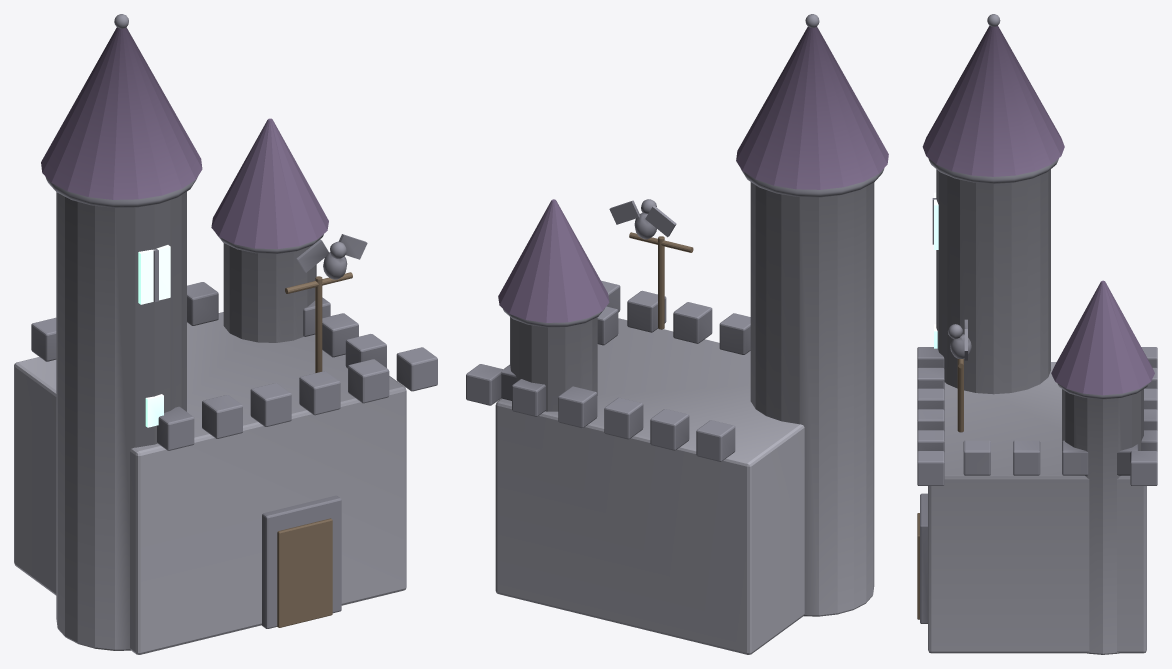
Rendered from witchCastle.glb.
3 renders of one model, left to right at view 1: azimuth 30°, elevation 25°; view 2: azimuth 150°, elevation 25°; view 3: azimuth 270°, elevation 25°, orthographic. The views are drawn at different scales.
Parts seen in each view (by area): view 1: WitchCastle; view 2: WitchCastle; view 3: WitchCastle.
Boxes of the visible parts, bbox=[...] form: WitchCastle: bbox=[14, 14, 437, 654]; WitchCastle: bbox=[466, 14, 888, 654]; WitchCastle: bbox=[917, 14, 1157, 654].
Size of the model in its own units: 6.35 by 10.77 by 4.4.
